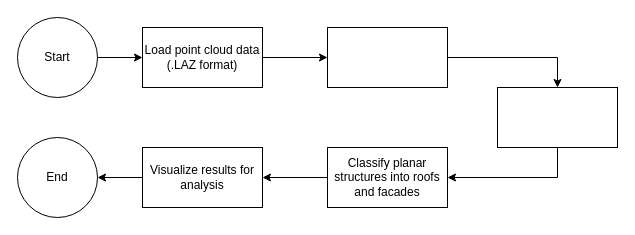
The diagram is 635 pixels wide and 235 high, and some of its shapes have lost their labels. Each missing label, with the centre of its shape:
Preprocess for noise removal and downsizing: point (387, 57)
Segment data to isolate regions of interest: point (557, 117)
